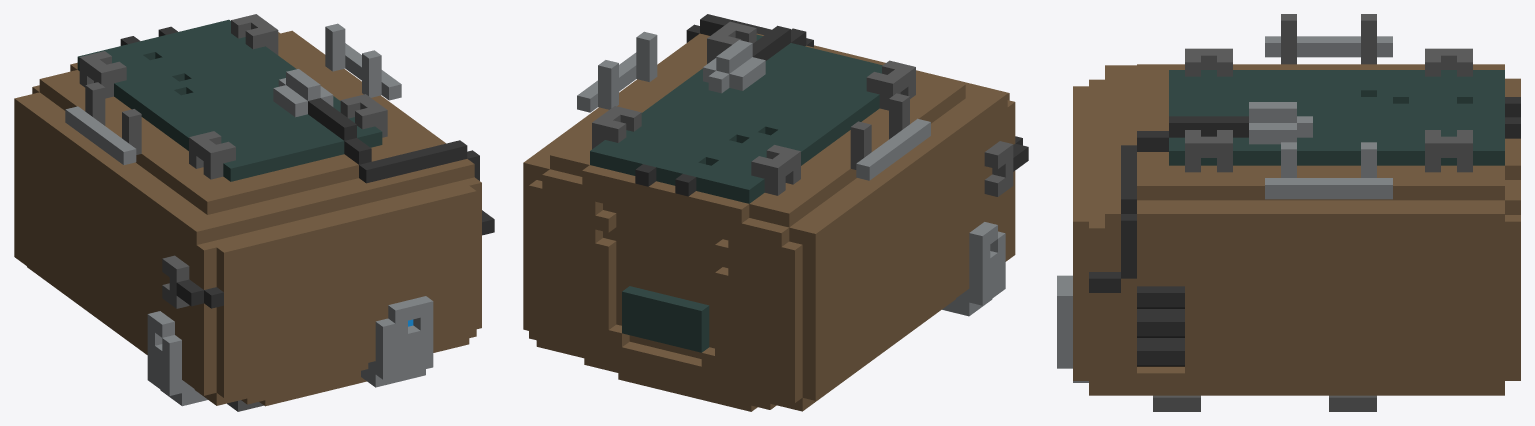
The model's file is Body-8.obj.
The picture shows the model from 3 angles, left to right: view 1: azimuth 30°, elevation 25°; view 2: azimuth 150°, elevation 25°; view 3: azimuth 270°, elevation 25°; orthographic projection. The views are drawn at different scales.
Size of the model in its own units: 2.4 by 2 by 2.9.
1 material, 1 textured.
